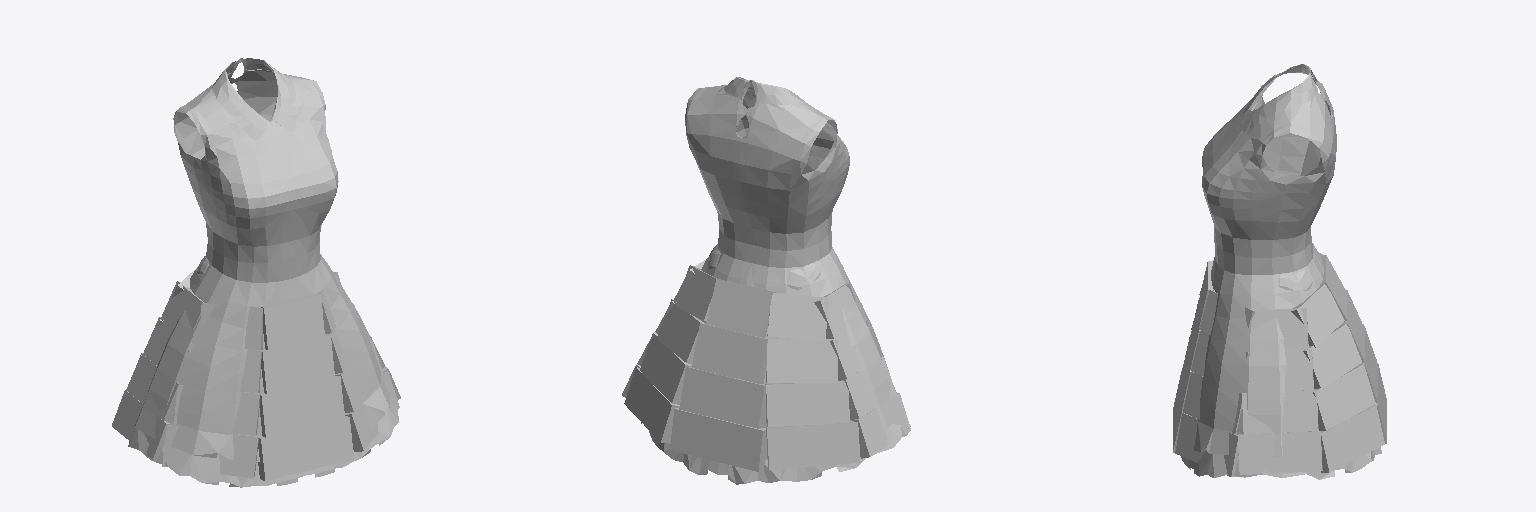
Rendered from DressCollared.obj.
3 renders of one model, left to right at view 1: azimuth 30°, elevation 25°; view 2: azimuth 150°, elevation 25°; view 3: azimuth 270°, elevation 25°, orthographic.
Visible parts, largest first — view 1: _mesh_Untitled.009, スカート_3_0_Cube.153, スカート_2_0_Cube.145, スカート_1_0_Cube.137, スカート_0_0_Cube.129, スカート_3_7_Cube.160, スカート_3_6_Cube.159, スカート_3_1_Cube.154, スカート_2_7_Cube.152, スカート_0_6_Cube.135, スカート_2_6_Cube.151, スカート_0_7_Cube.136 (+3 smaller); view 2: _mesh_Untitled.009, スカート_3_4_Cube.157, スカート_3_5_Cube.158, スカート_2_4_Cube.149, スカート_2_5_Cube.150, スカート_1_4_Cube.141, スカート_1_5_Cube.142, スカート_0_4_Cube.133, スカート_0_5_Cube.134, スカート_3_3_Cube.156, スカート_2_3_Cube.148, スカート_1_3_Cube.140 (+6 smaller); view 3: _mesh_Untitled.009, スカート_3_2_Cube.155, スカート_3_3_Cube.156, スカート_2_3_Cube.148, スカート_1_3_Cube.140, スカート_2_2_Cube.147, スカート_0_3_Cube.132, スカート_0_2_Cube.131, スカート_3_1_Cube.154, スカート_1_2_Cube.139, スカート_2_1_Cube.146, スカート_0_4_Cube.133 (+3 smaller).
Part boxes in pixels (x1,y1,x2,y2): _mesh_Untitled.009: (128,58,398,487); スカート_3_0_Cube.153: (258,416,353,480); スカート_2_0_Cube.145: (259,376,344,437); スカート_1_0_Cube.137: (261,335,334,393); スカート_0_0_Cube.129: (261,293,324,349); スカート_3_7_Cube.160: (162,425,258,478); スカート_3_6_Cube.159: (112,390,170,460); スカート_3_1_Cube.154: (345,371,399,451); スカート_2_7_Cube.152: (174,385,260,435); スカート_0_6_Cube.135: (161,281,203,331); スカート_2_6_Cube.151: (126,353,180,420); スカート_0_7_Cube.136: (201,303,262,349); _mesh_Untitled.009: (641,77,910,484); スカート_3_4_Cube.157: (670,408,766,471); スカート_3_5_Cube.158: (766,421,860,469); スカート_2_4_Cube.149: (679,367,765,428); スカート_2_5_Cube.150: (765,381,849,426); スカート_1_4_Cube.141: (692,323,767,383); スカート_1_5_Cube.142: (766,339,837,382); スカート_0_4_Cube.133: (706,279,775,337); スカート_0_5_Cube.134: (767,293,828,341); スカート_3_3_Cube.156: (624,367,679,443); スカート_2_3_Cube.148: (640,334,691,404); スカート_1_3_Cube.140: (657,299,704,363); _mesh_Untitled.009: (1181,64,1381,479); スカート_3_2_Cube.155: (1238,431,1322,474); スカート_3_3_Cube.156: (1321,405,1384,472); スカート_2_3_Cube.148: (1313,364,1375,430); スカート_1_3_Cube.140: (1303,323,1361,389); スカート_2_2_Cube.147: (1242,390,1318,433); スカート_0_3_Cube.132: (1291,284,1344,347); スカート_0_2_Cube.131: (1252,308,1308,349); スカート_3_1_Cube.154: (1175,413,1238,476); スカート_1_2_Cube.139: (1285,349,1313,390); スカート_2_1_Cube.146: (1183,372,1243,434); スカート_0_4_Cube.133: (1320,255,1346,321).
Bounding box in the file's own units: 1.04 × 1.48 × 0.7664.